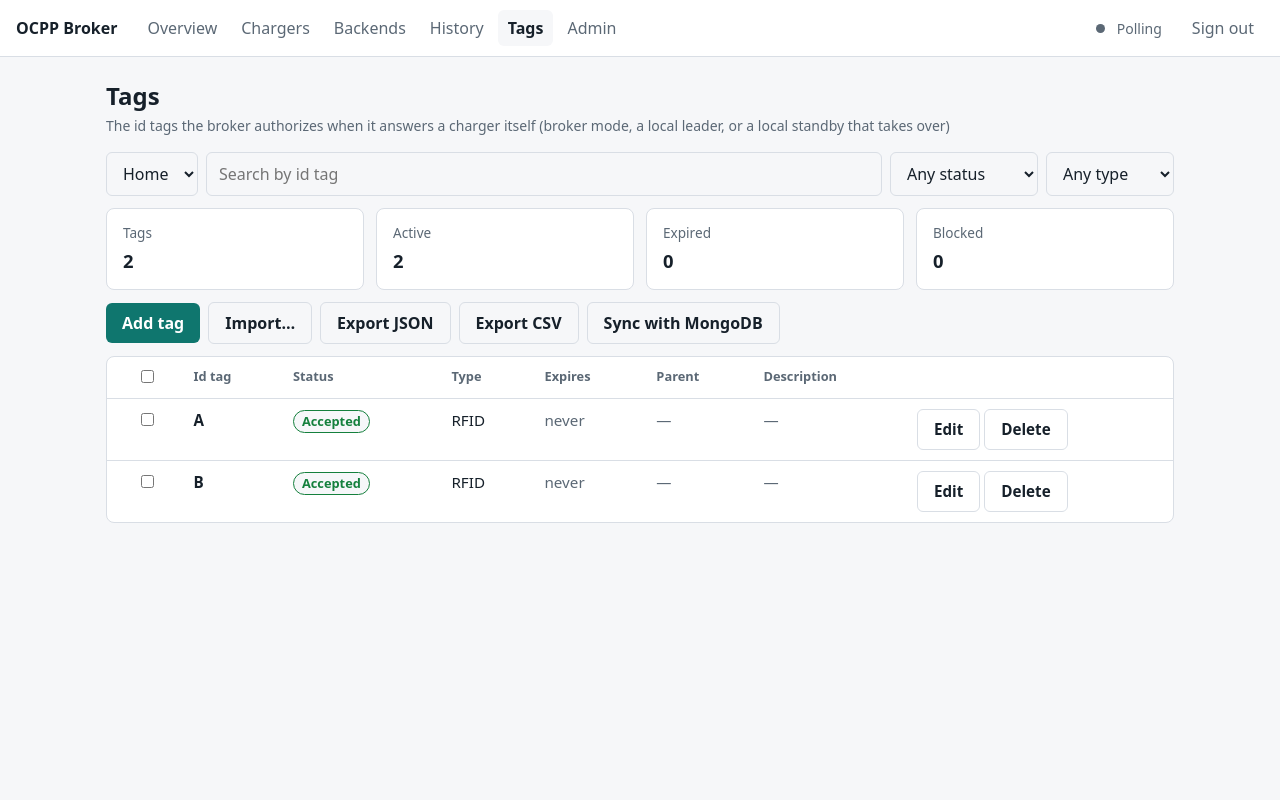
Test case: deleting and bulk changes › selects every tag on the page, and clears the selection
Expected: the heading "Tags" is shown, [106, 79, 160, 112]
Expected: the column heading "A" is shown, [180, 399, 279, 460]
Click the checkbox named "Select all tags on this page" at (147, 376), box [125, 370, 170, 383]
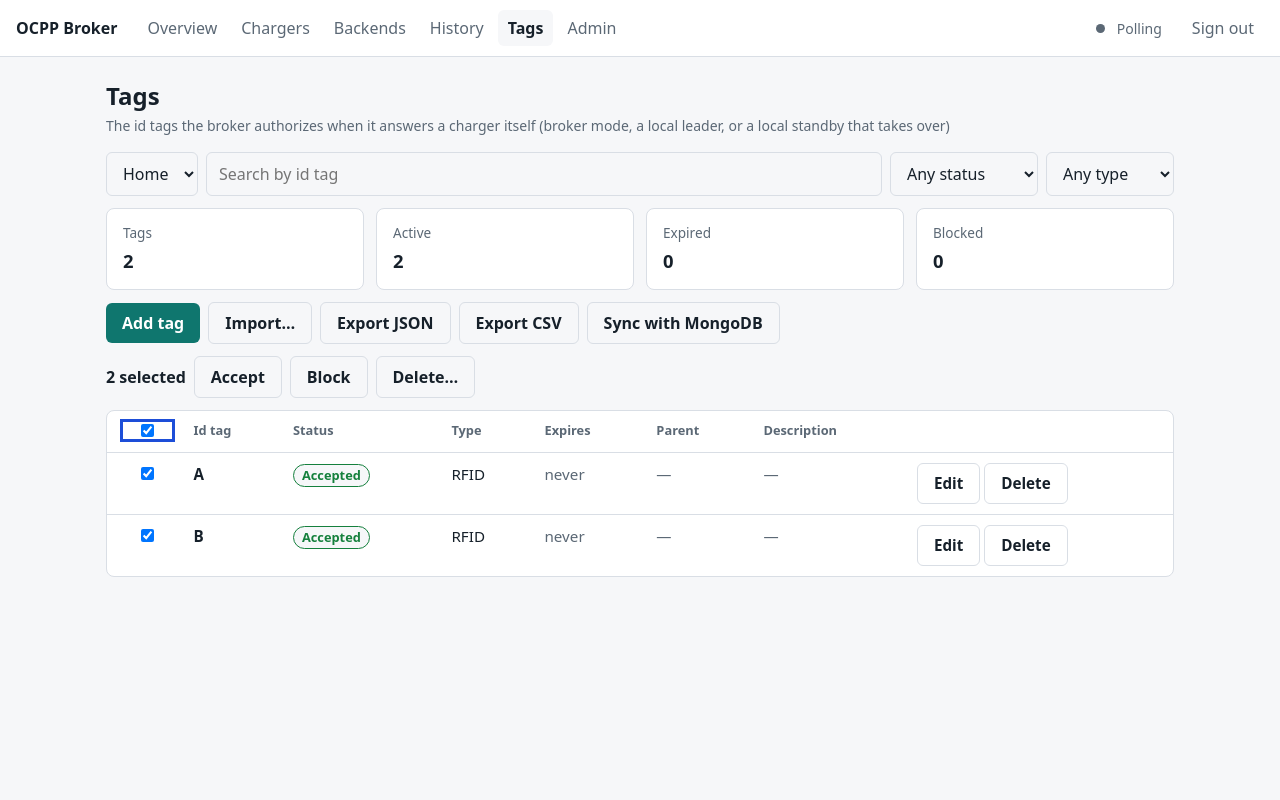
Result: the text "2 selected" is shown at [106, 365, 186, 389]
Click the checkbox named "Select all tags on this page" at (147, 430), box [125, 424, 170, 437]
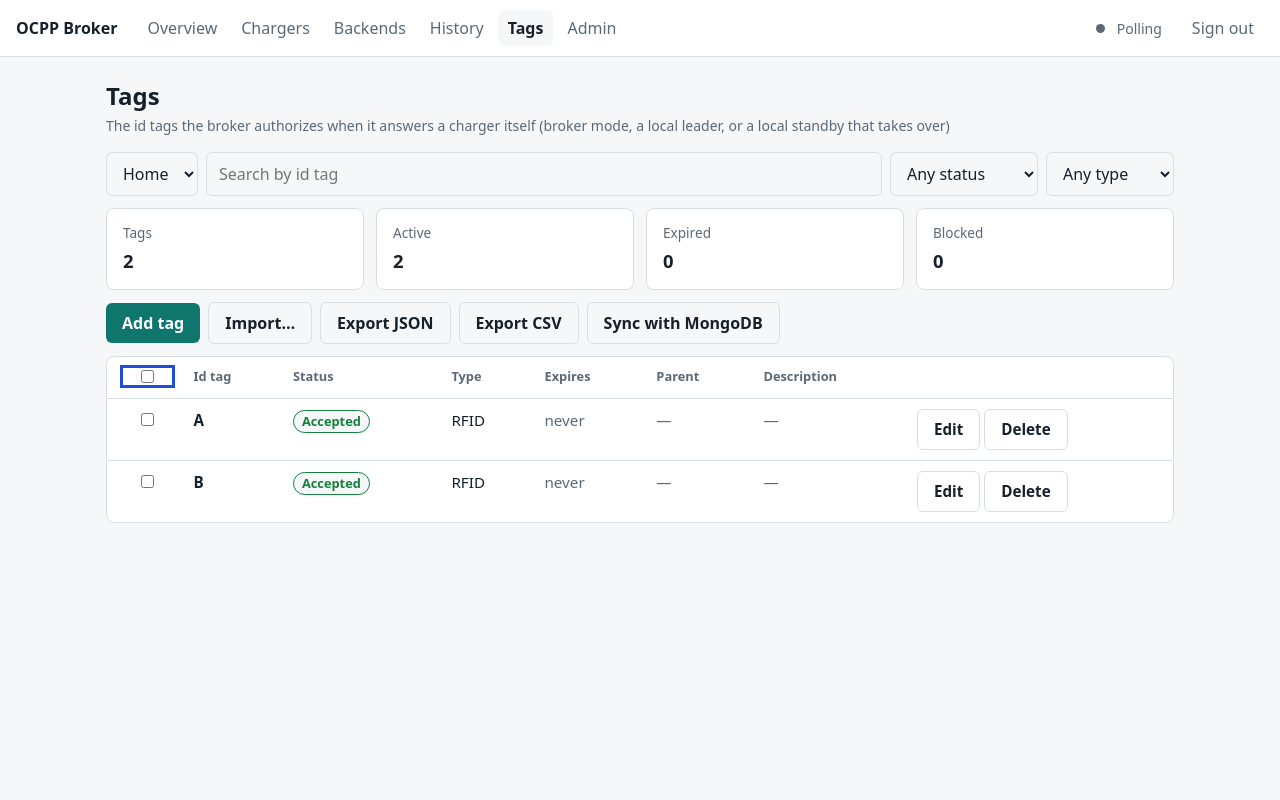
Result: the text "selected" is gone
